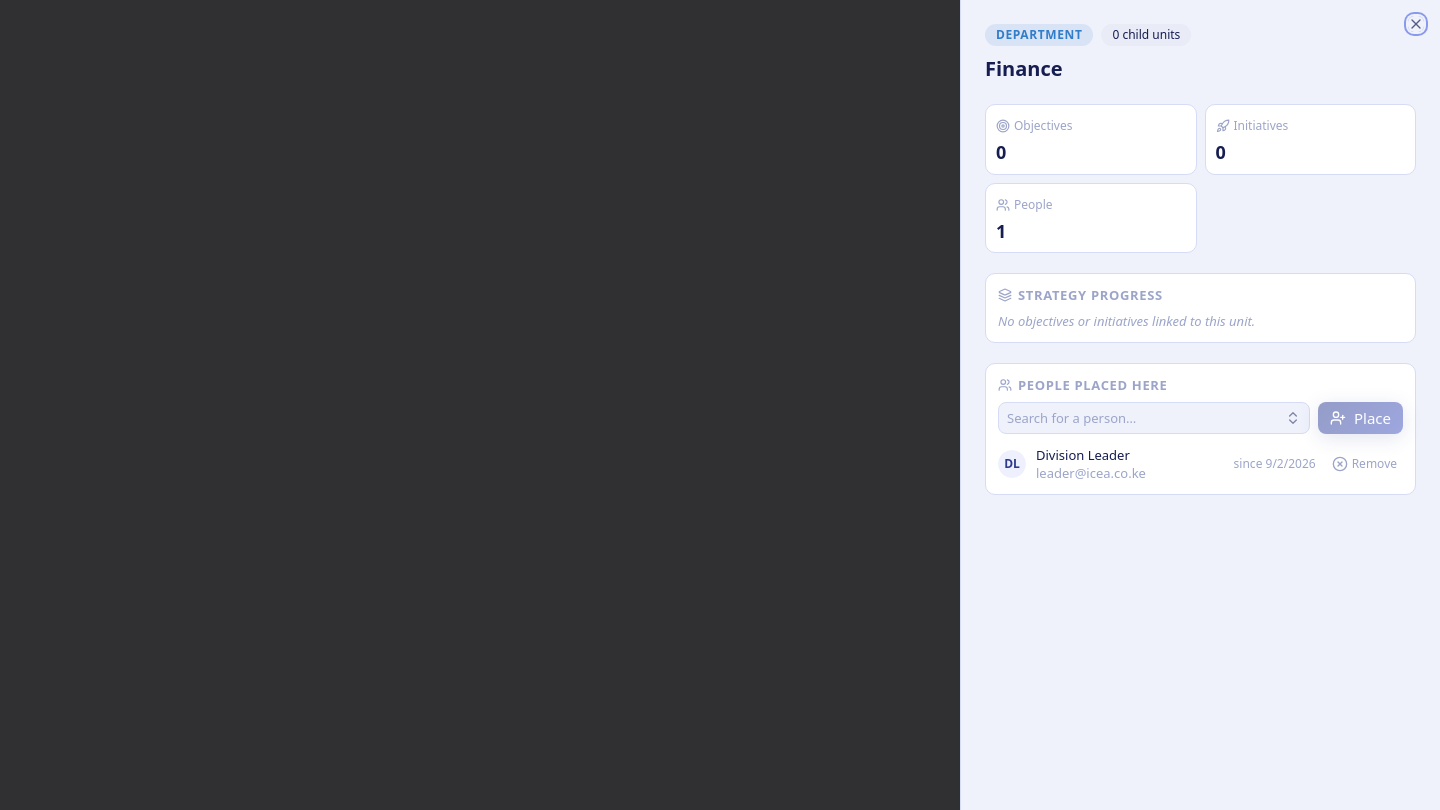
OrgNodeInsightsPanel placements › offers a searchable picker of users not already placed, and only allows placing once one is chosen
Expected: the text "Division Leader" is shown, [1036, 446, 1130, 464]
Expected: the button "Place" is disabled, [1318, 402, 1403, 434]
Click the dropdown: (1072, 418) [998, 402, 1310, 434]
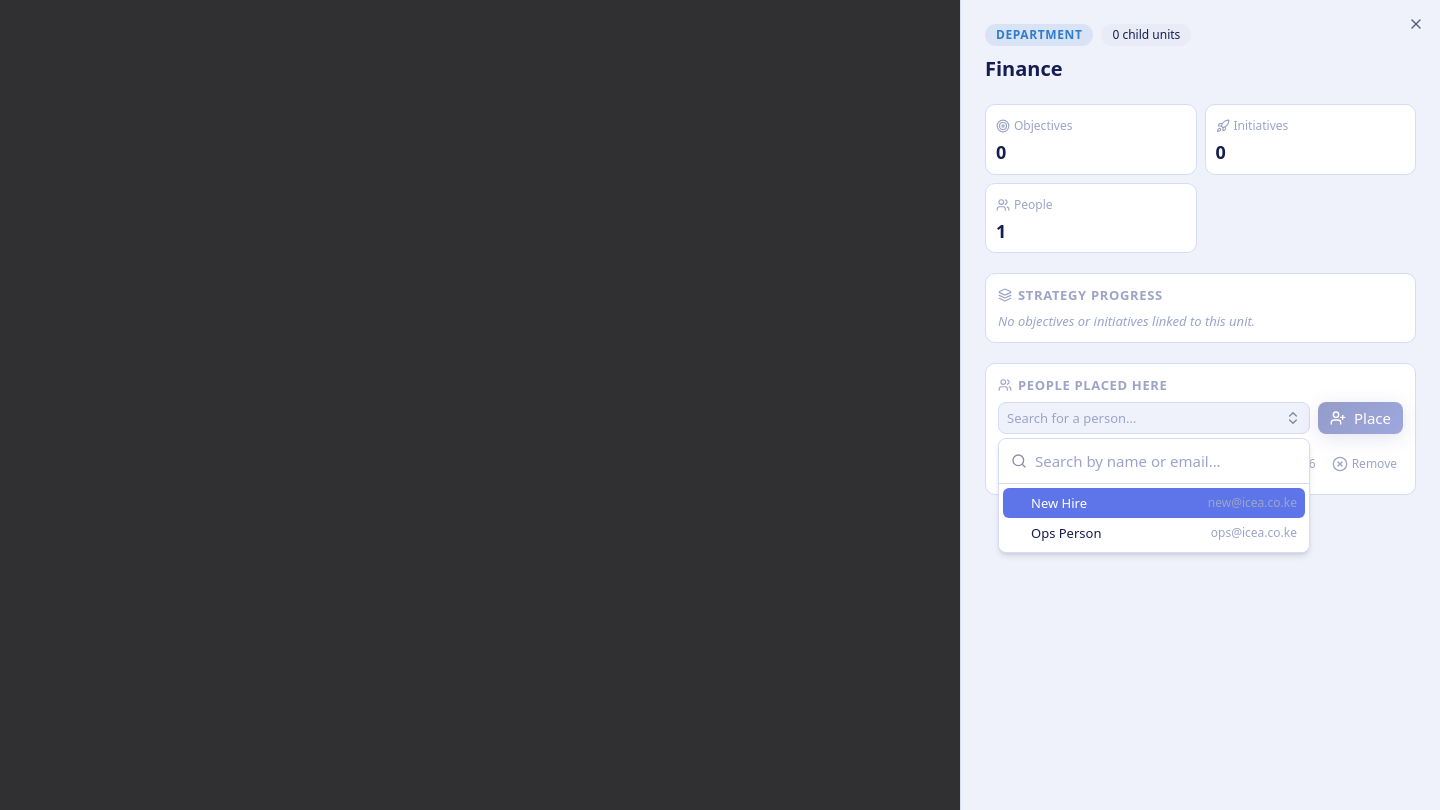
In the dropdown with placeholder "Search by name or email…": (1166, 461) [1035, 439, 1297, 483], type "ops"
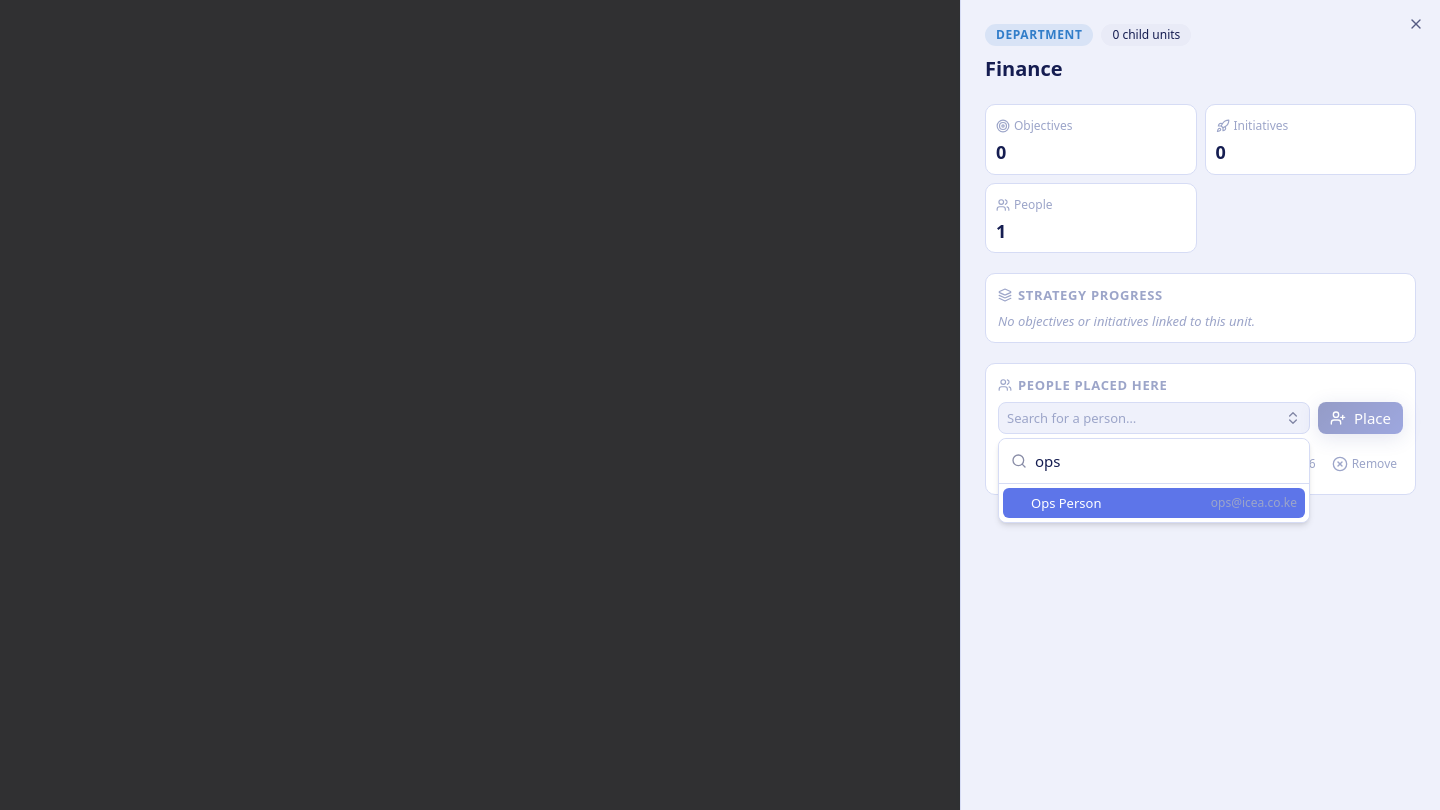
Replace the text in the dropdown with placeholder "Search by name or email…" with "new@": (1166, 461) [1035, 439, 1297, 483]
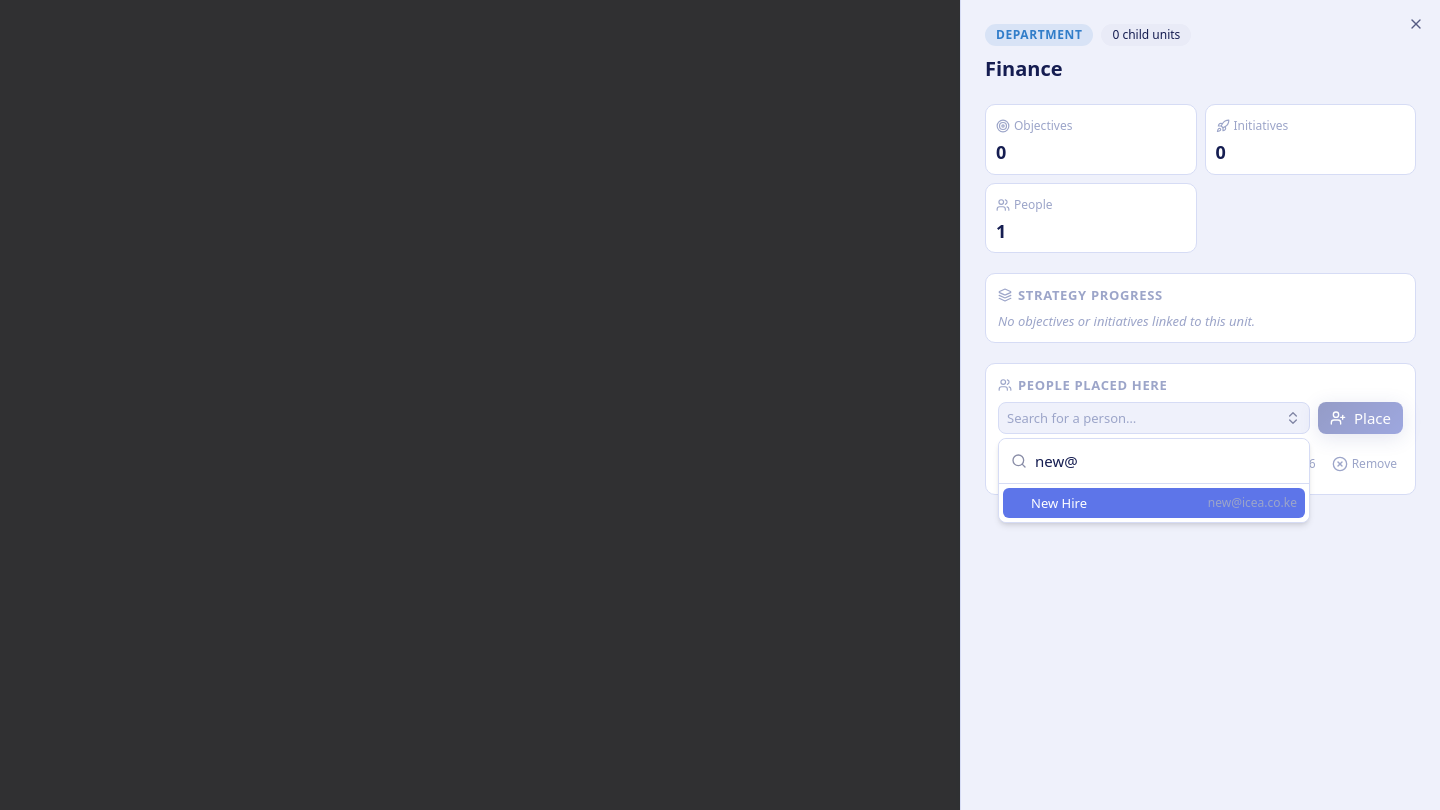
Replace the text in the dropdown with placeholder "Search by name or email…" with "zzz": (1166, 461) [1035, 439, 1297, 483]
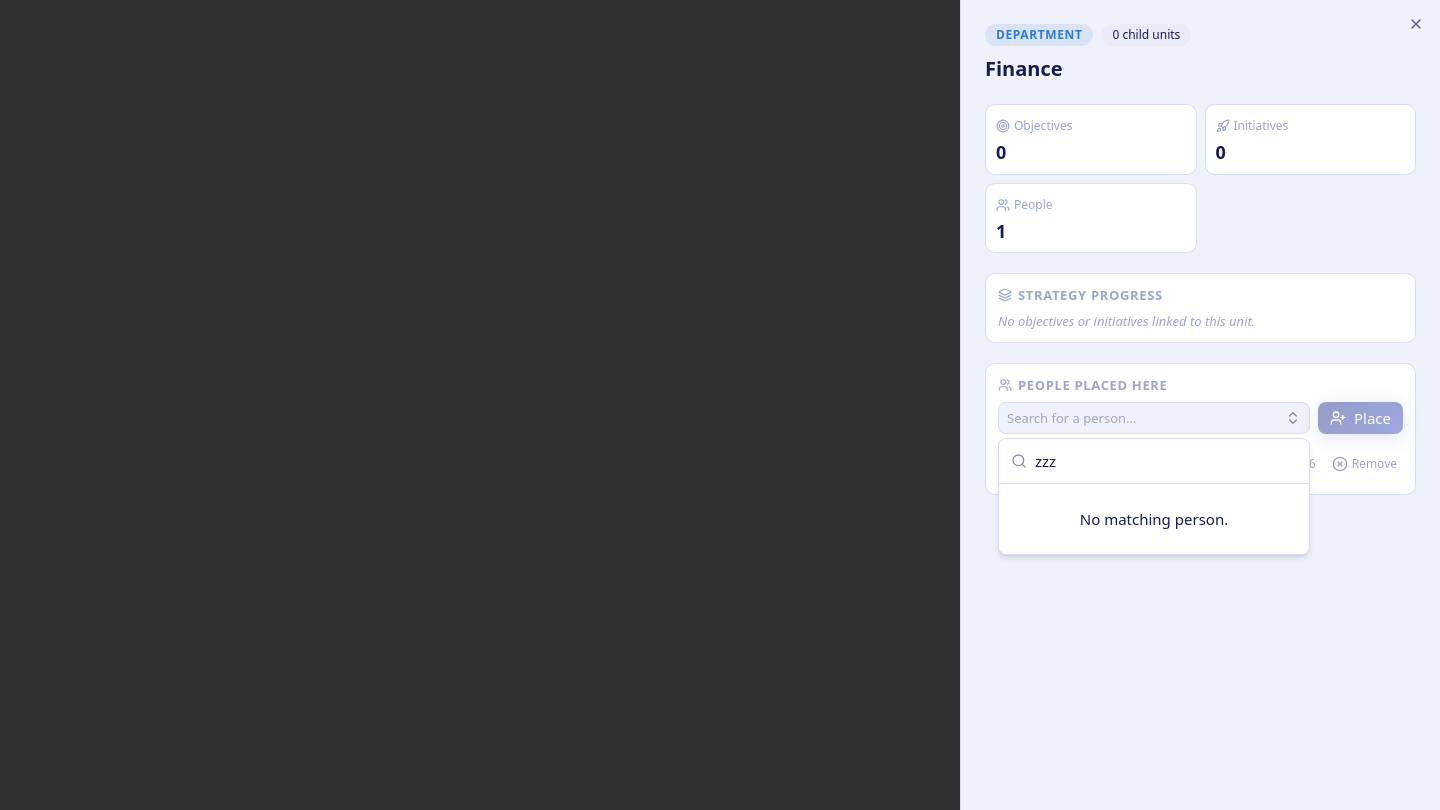
Expected: the text "No matching person." is shown, [1080, 509, 1228, 529]
Replace the text in the dropdown with placeholder "Search by name or email…" with "new hire": (1166, 461) [1035, 439, 1297, 483]
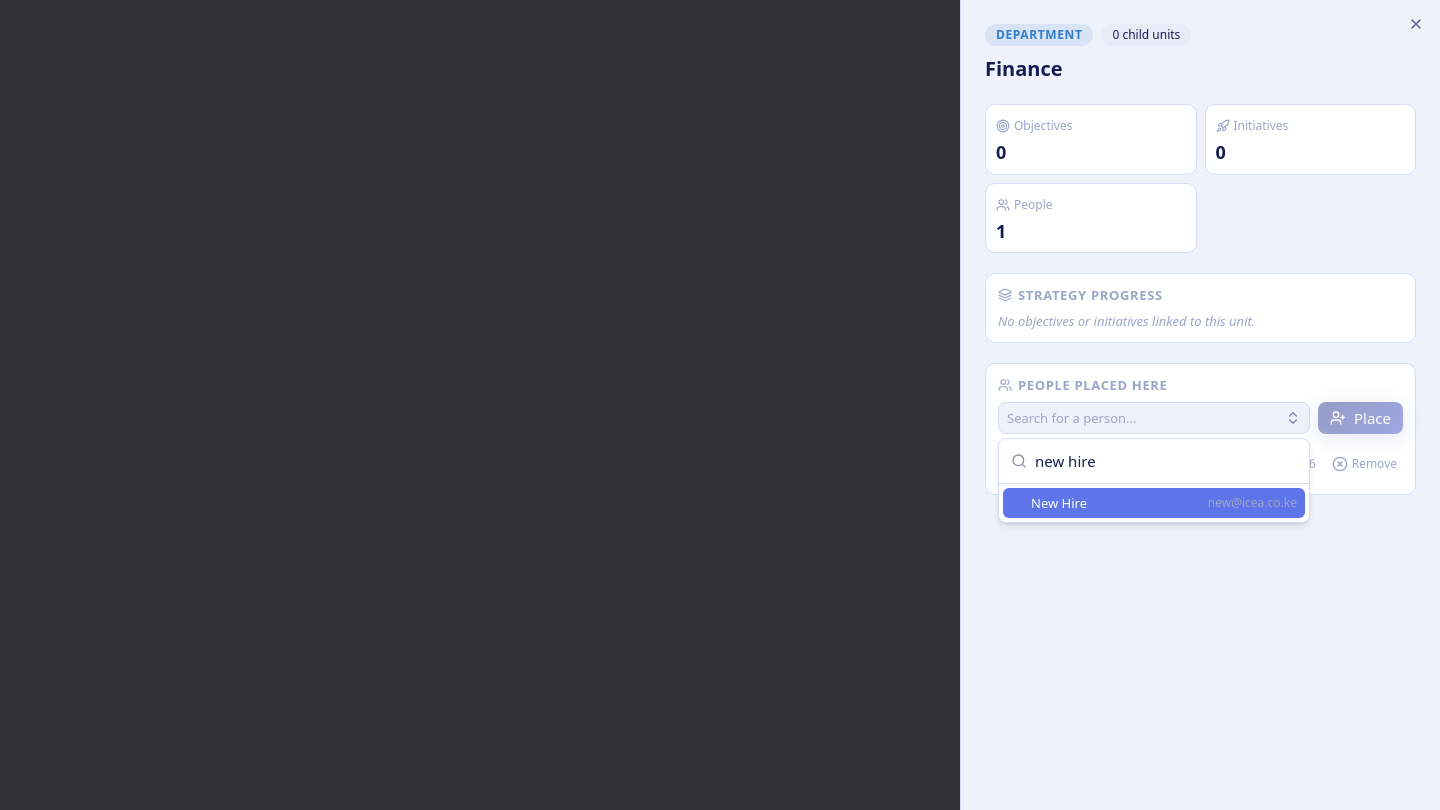
Click the text "New Hire": (1059, 503) [1031, 494, 1087, 512]
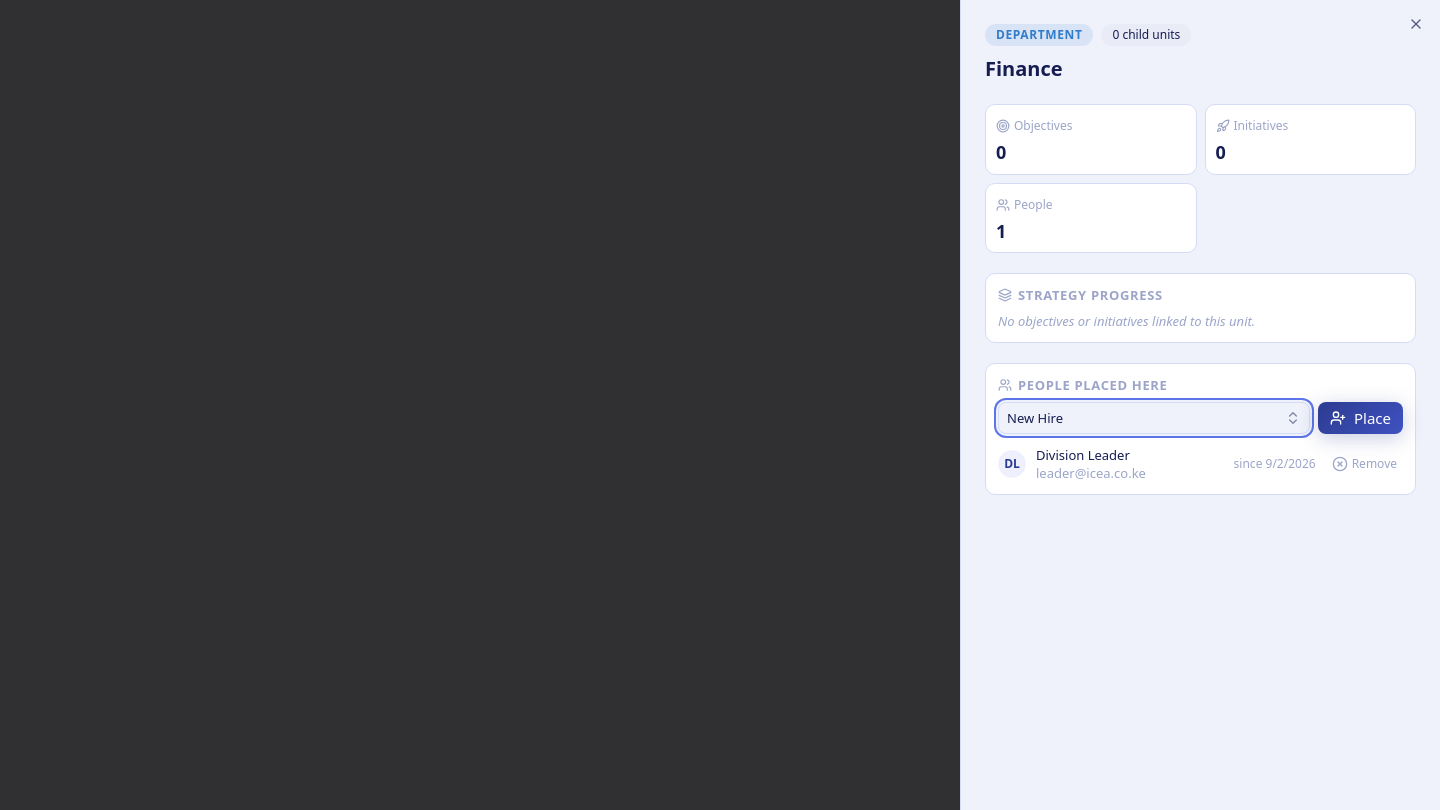
Expected: the button "Place" is enabled, [1318, 402, 1403, 434]
